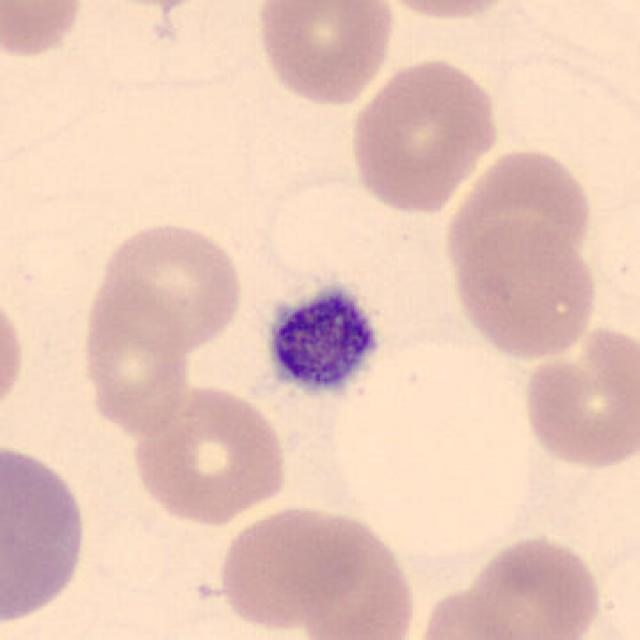Platelets: (260, 278, 386, 406)
RBC: (345, 53, 503, 215), (128, 379, 292, 529), (446, 217, 603, 363), (89, 217, 247, 354), (214, 500, 374, 634), (441, 143, 595, 280), (283, 506, 421, 640), (518, 321, 638, 474), (84, 285, 197, 445), (0, 435, 92, 629), (250, 0, 398, 109), (458, 530, 604, 640), (410, 583, 547, 640), (0, 0, 87, 63), (0, 282, 30, 429), (368, 0, 530, 23), (579, 0, 640, 17)
